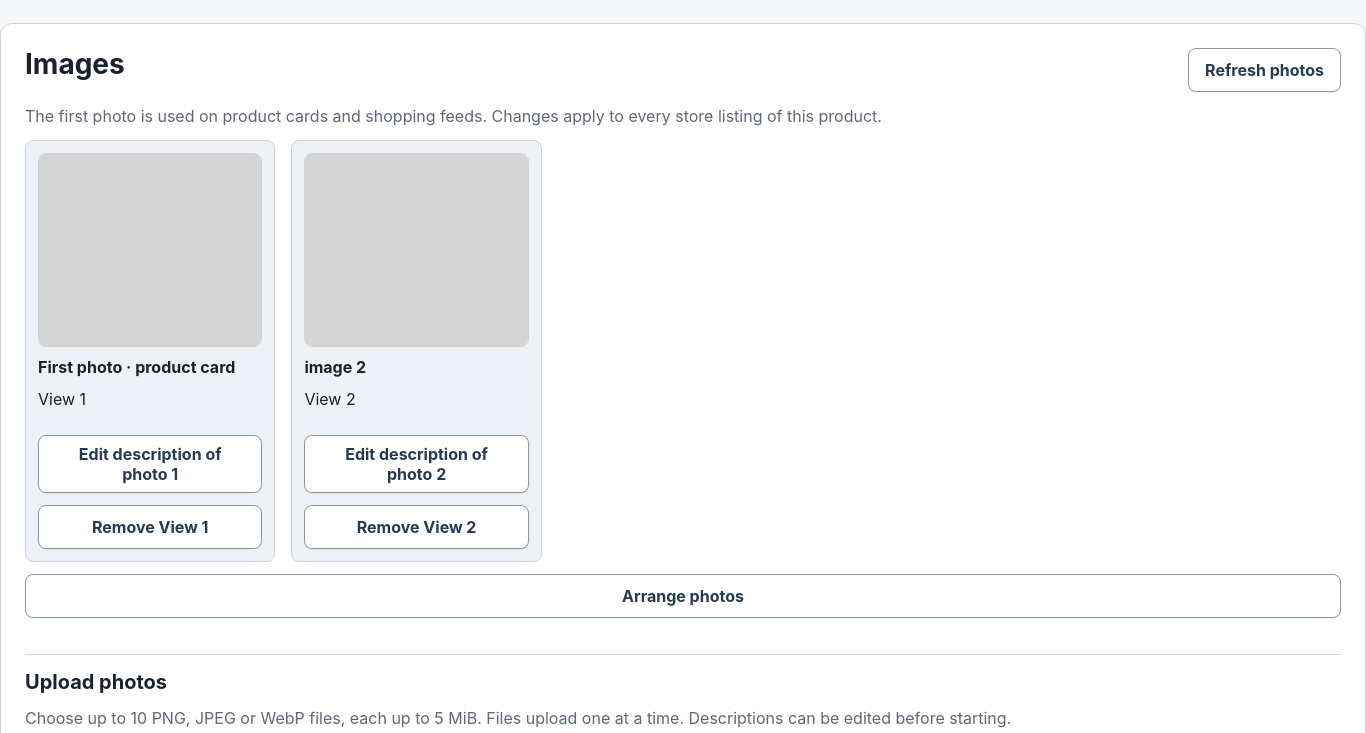
Test: submits the complete keyboard-arranged order and displays fresh saved positions
This screenshot has width=1366, height=733.
Step 1. Click the button "Arrange photos" → (683, 596), box [25, 574, 1341, 618]
(page scrolled)
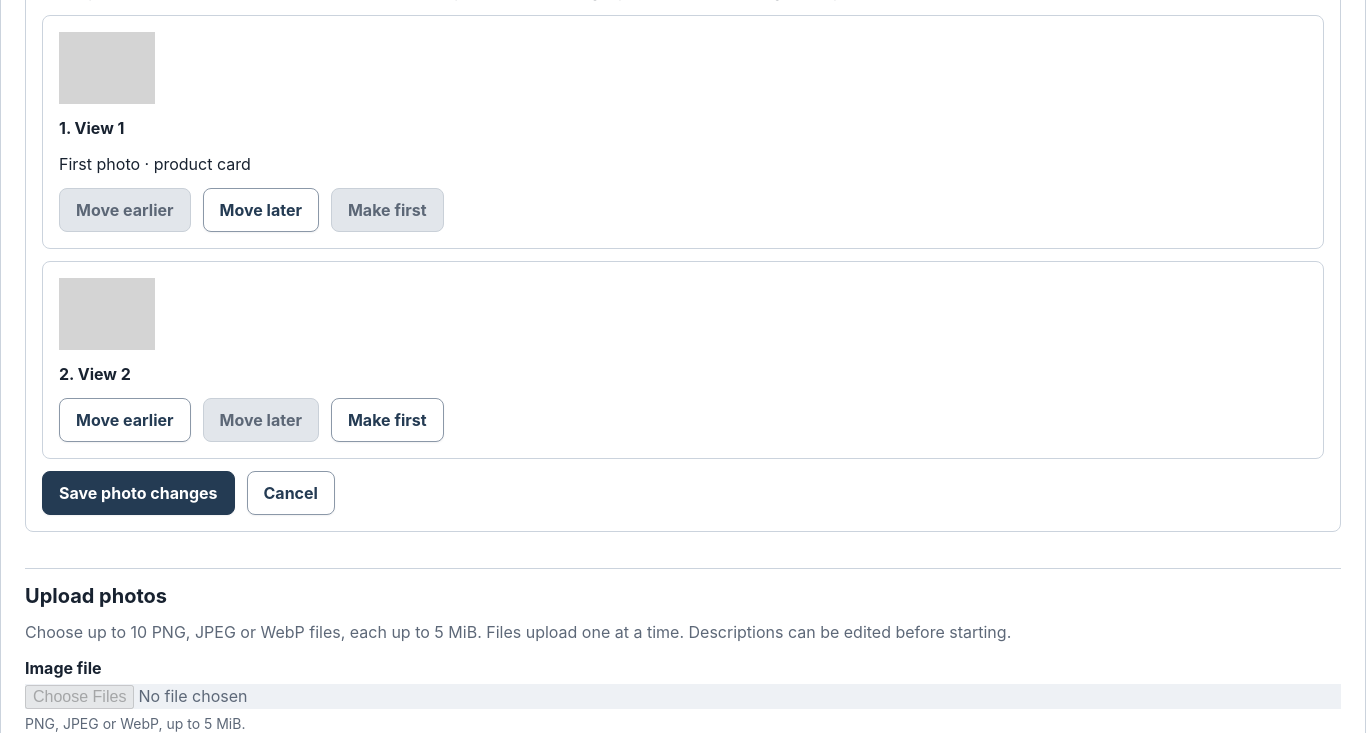
Step 2. Click the 2nd button "Make first" → (387, 420), box [331, 398, 444, 442]
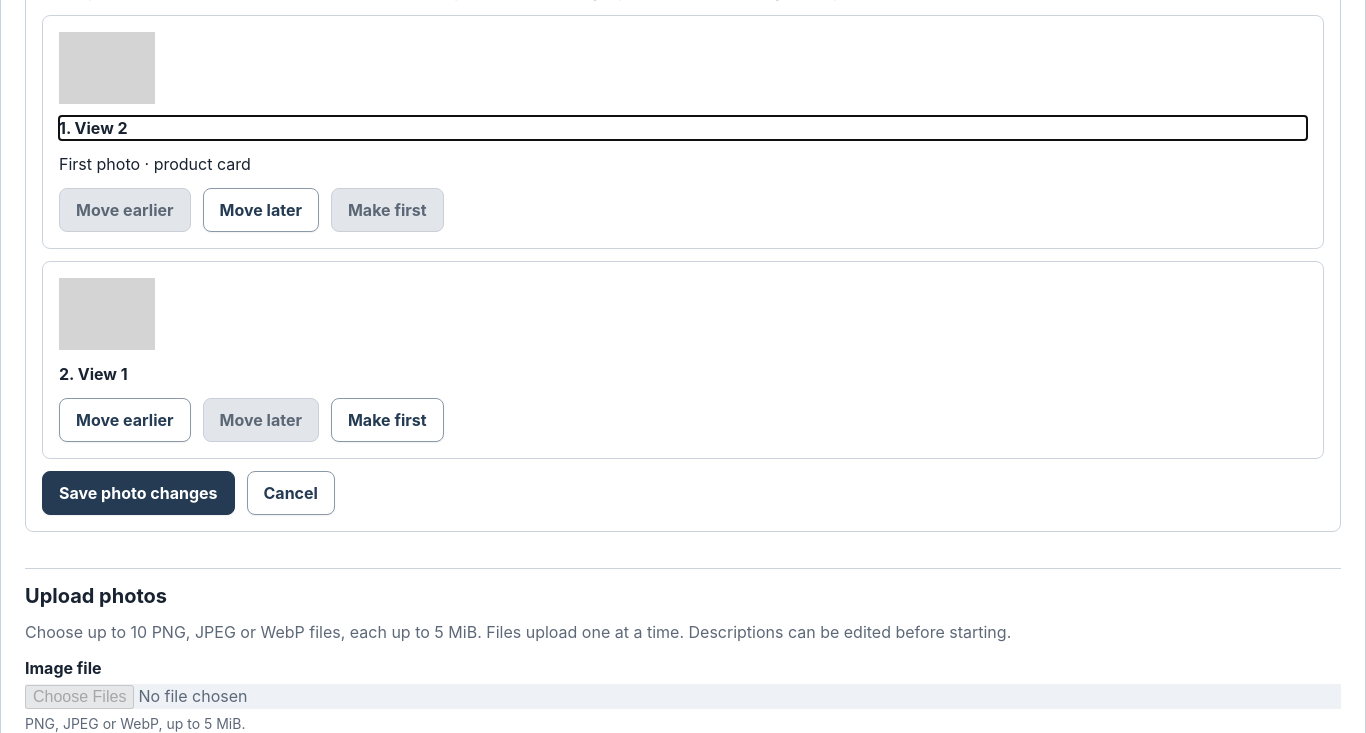
Now the text "1. View 2" is shown, box [59, 118, 128, 138]
Step 3. Click the button "Save photo changes" → (138, 493), box [42, 471, 234, 515]
(page scrolled)
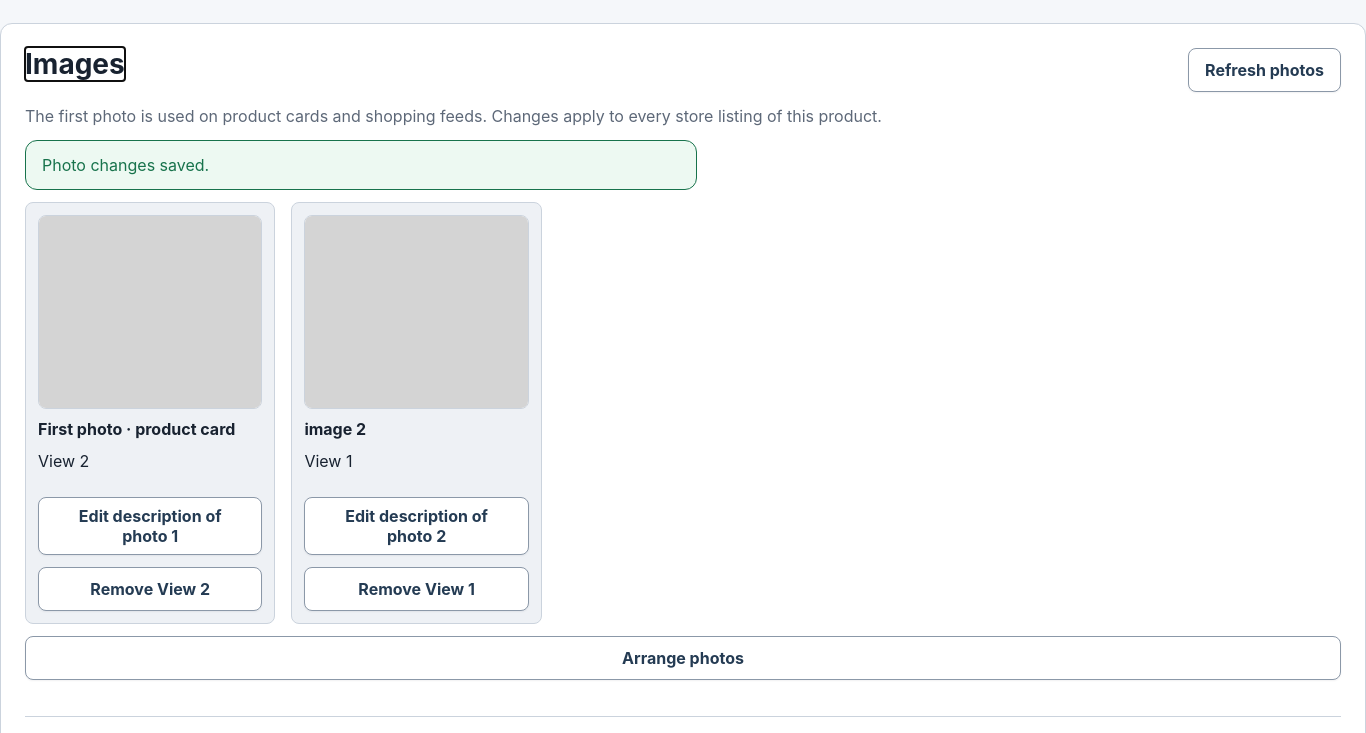
Now the text "Photo changes saved." is shown, box [42, 155, 209, 175]
